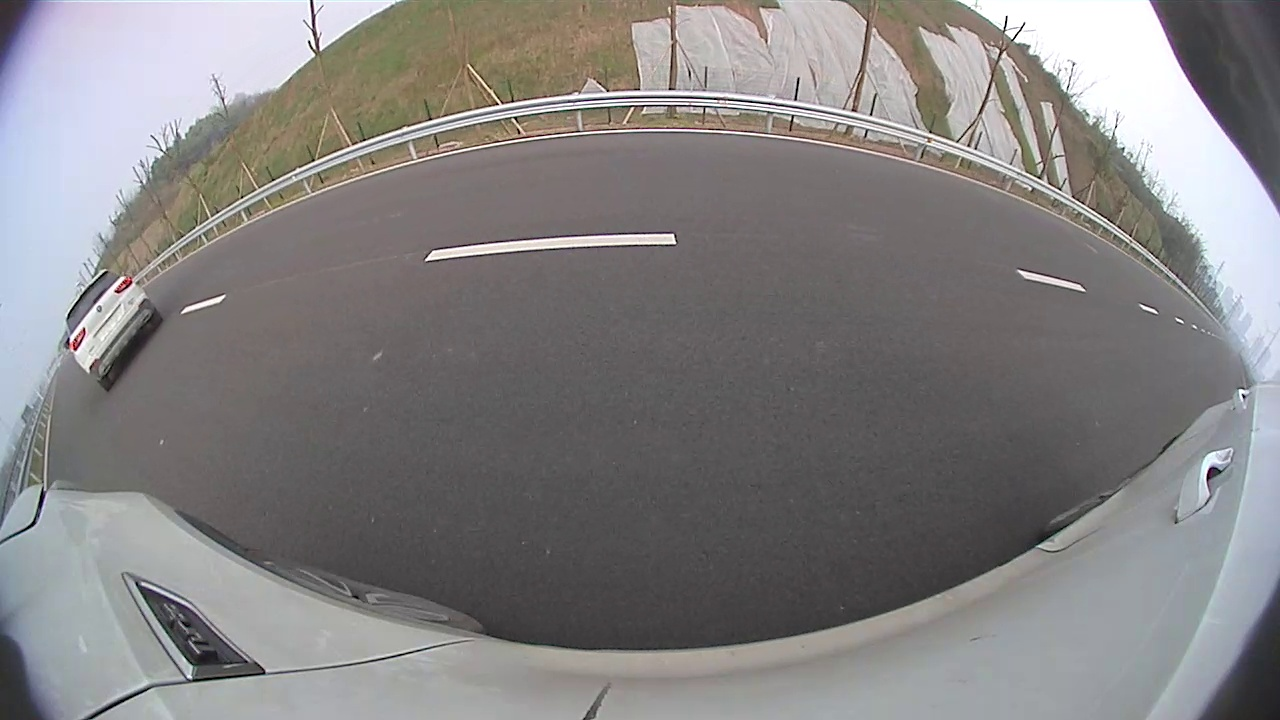car: (448, 118, 610, 233)
front: (598, 171, 610, 206)
rear: (565, 178, 585, 224)
